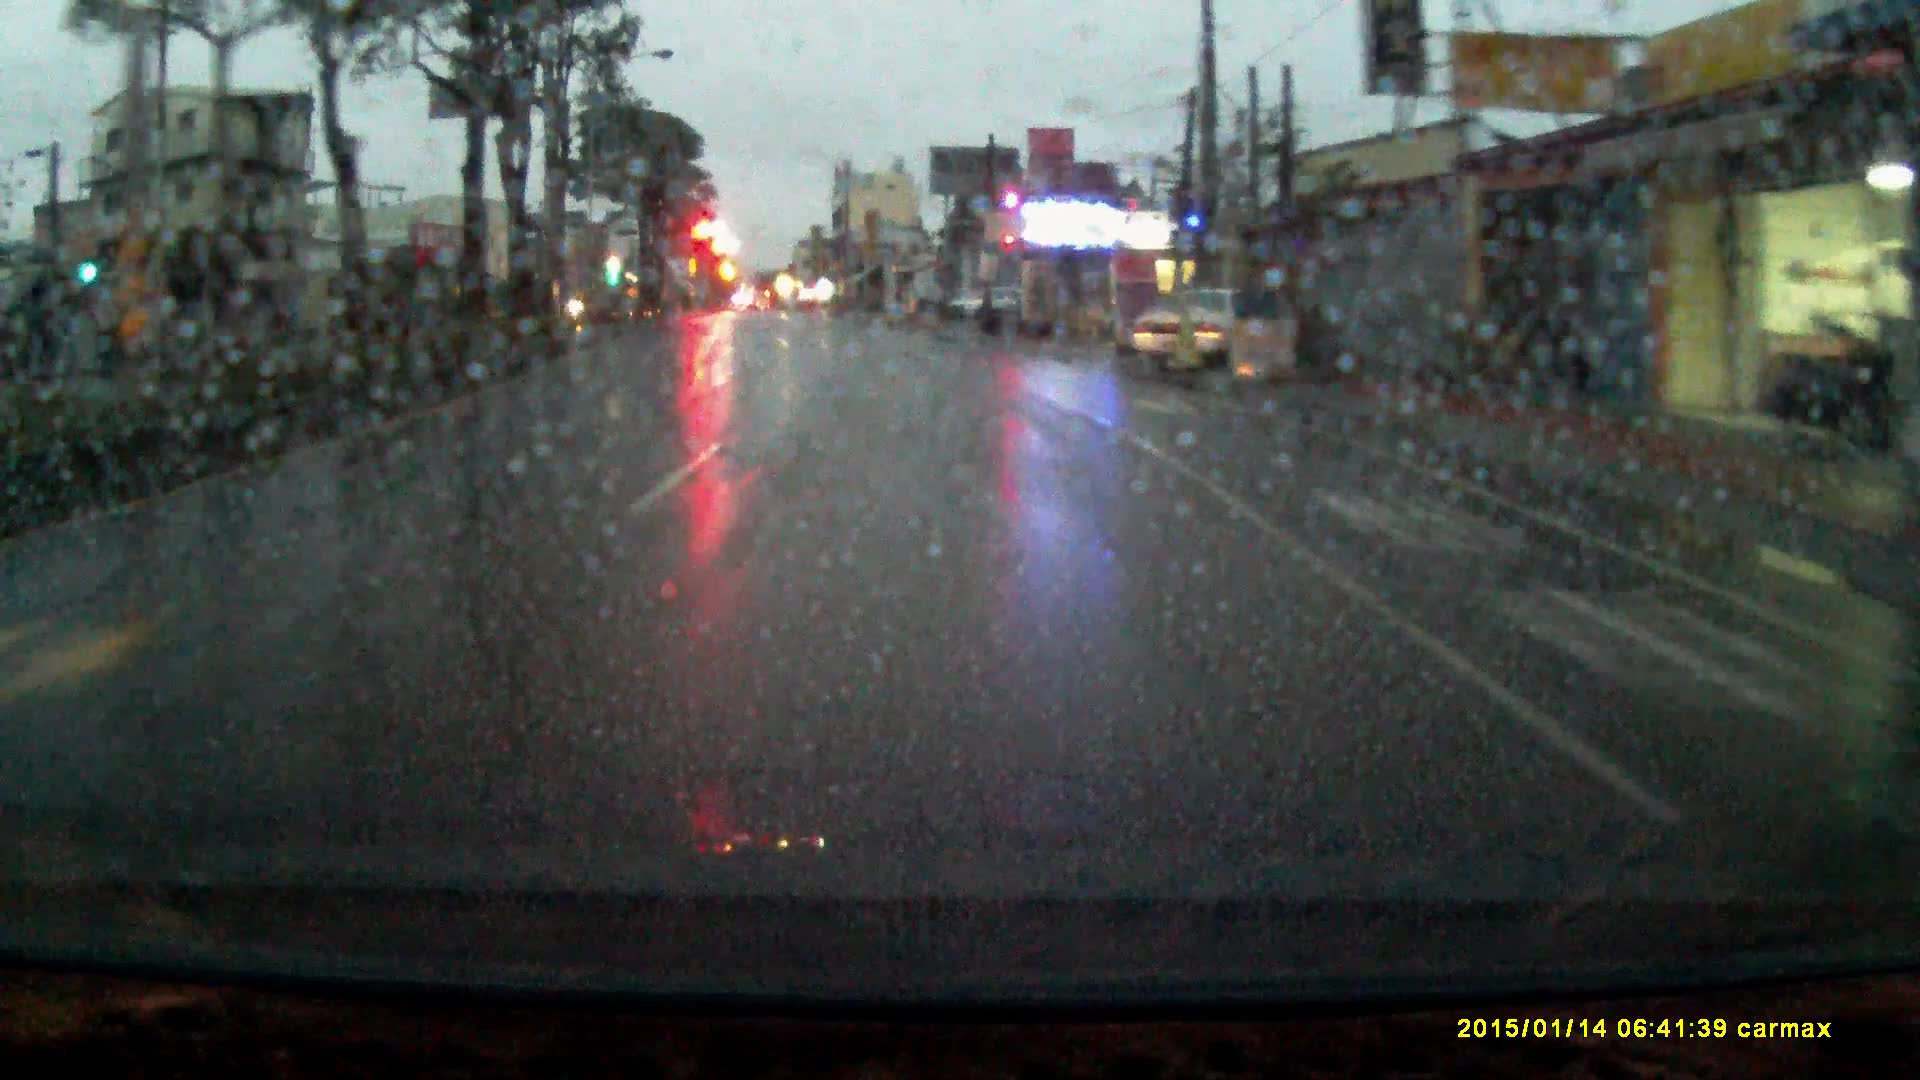vehicle: (1142, 291, 1294, 385), (949, 284, 1029, 320)
